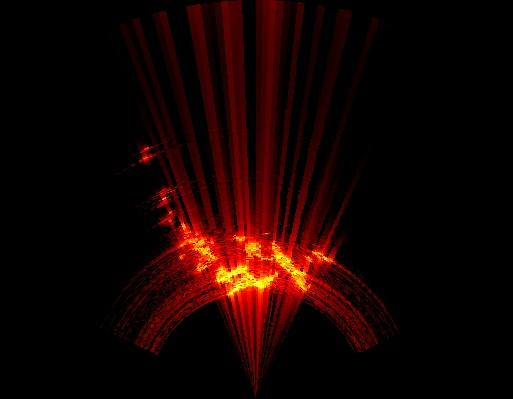shipwreck: (215, 235, 309, 296), (180, 224, 218, 271), (313, 251, 332, 260)
